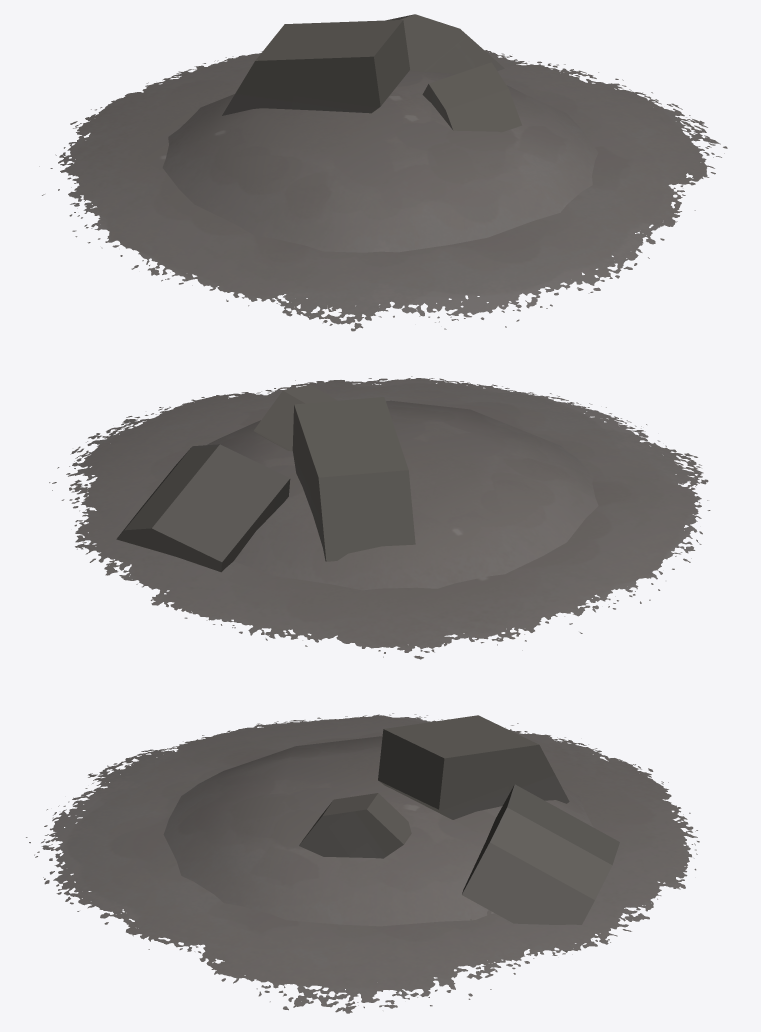
Rendered from SM_Rubble_Mound_01.fbx.
3 views of the same model, one above another, from view 1: azimuth 30°, elevation 25°; view 2: azimuth 150°, elevation 25°; view 3: azimuth 270°, elevation 25° (orthographic).
Parts seen in each view (by area): view 1: SM_Rubble_Mound_01; view 2: SM_Rubble_Mound_01; view 3: SM_Rubble_Mound_01.
Boxes of the visible parts, box(x1,y1,x2,y2) form: SM_Rubble_Mound_01: box(39, 14, 727, 331); SM_Rubble_Mound_01: box(49, 376, 710, 659); SM_Rubble_Mound_01: box(26, 713, 699, 1013).
Bounding box in the file's own units: 266 × 59.2 × 266.
